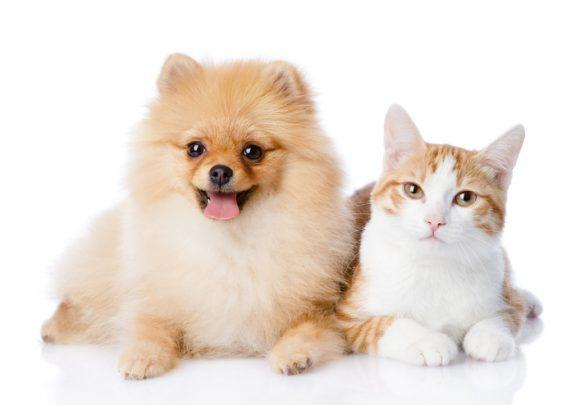cat: (355, 97, 554, 374)
dog: (37, 51, 352, 377)
